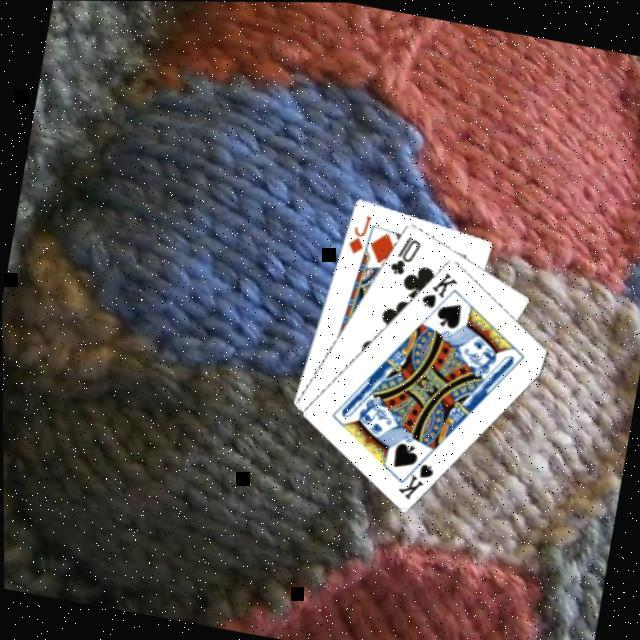10C: (385, 227, 426, 280)
JD: (344, 208, 376, 258)
KS: (394, 446, 439, 504), (416, 264, 461, 314)
